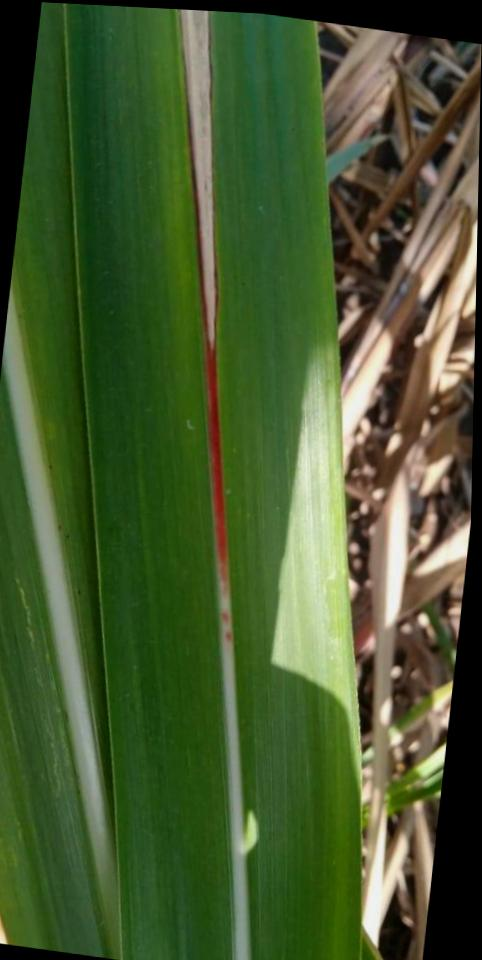RedRot: (175, 9, 235, 646)
